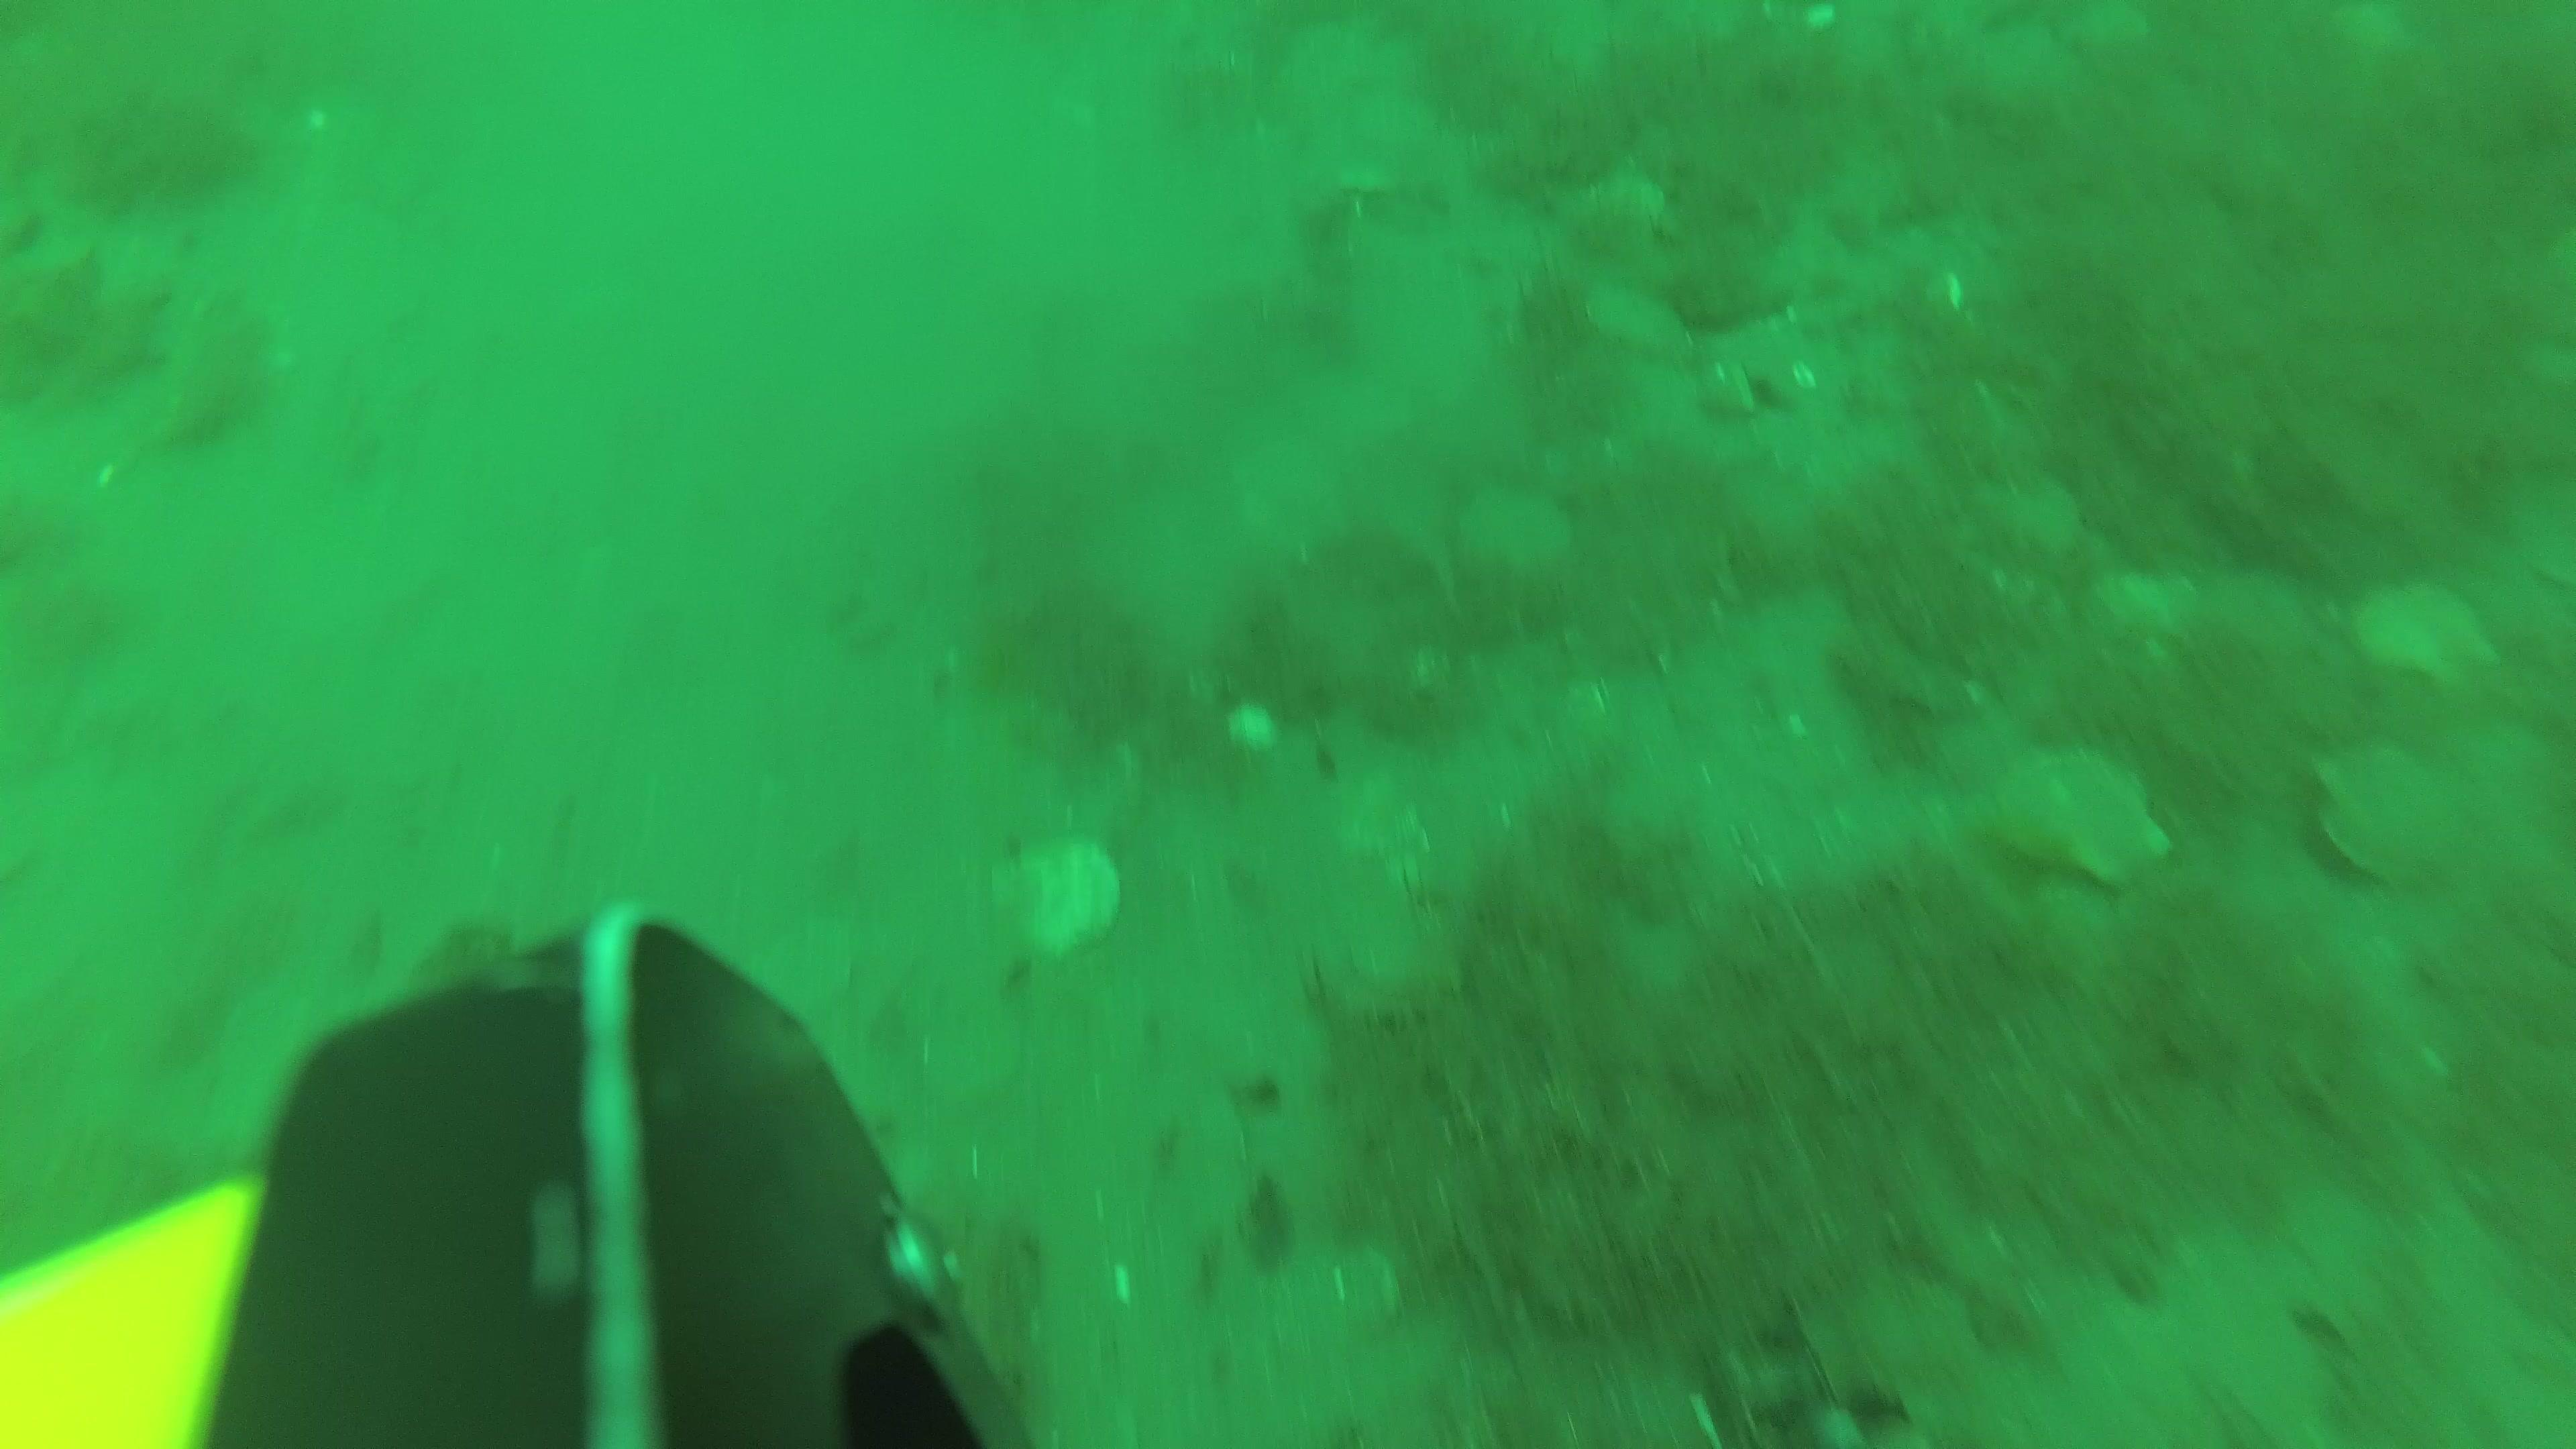scallop: (1982, 745, 2180, 892), (2302, 732, 2482, 888), (985, 833, 1131, 964), (1226, 439, 1355, 573), (2351, 571, 2507, 683), (908, 987, 1039, 1116), (1964, 458, 2097, 568), (1327, 920, 1465, 1016), (1454, 478, 1582, 577), (1327, 770, 1435, 878), (2091, 561, 2206, 660), (1576, 272, 1702, 361), (1274, 380, 1426, 451), (2220, 566, 2323, 665)
